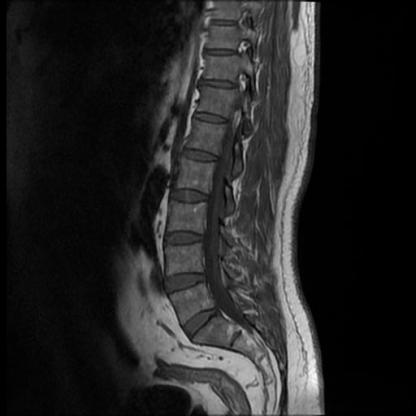Disc Bulgerotation: (179, 309, 225, 333)
Disc Relaxationrotation: (162, 184, 212, 297), (180, 310, 221, 333)
